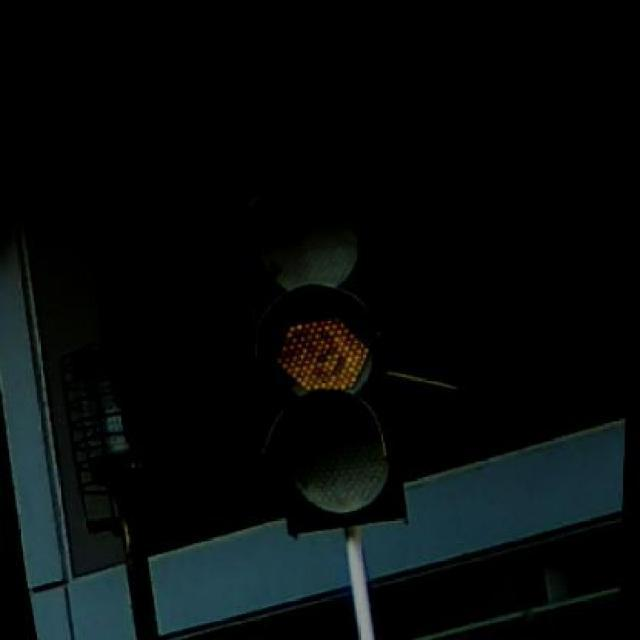yellow_light: (256, 205, 404, 536)
